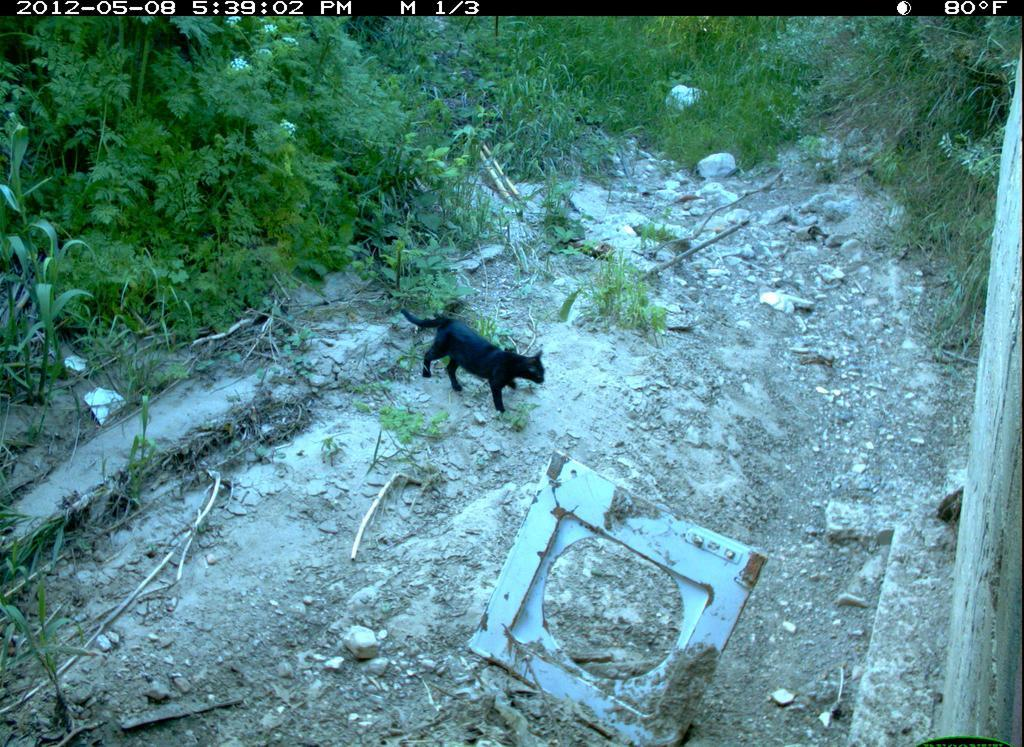cat: (386, 293, 556, 418)
